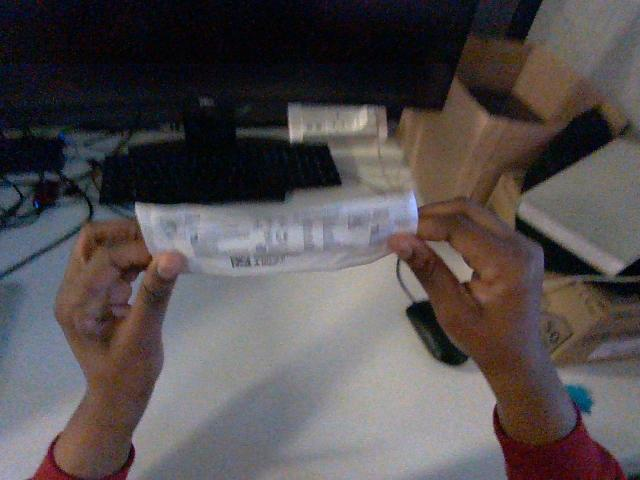syringe: (135, 191, 417, 275), (288, 103, 387, 142)
